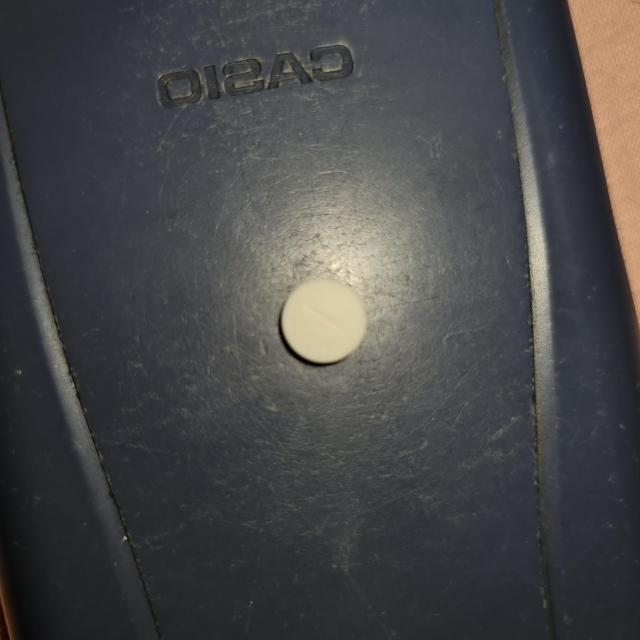pill: (280, 279, 370, 366)
